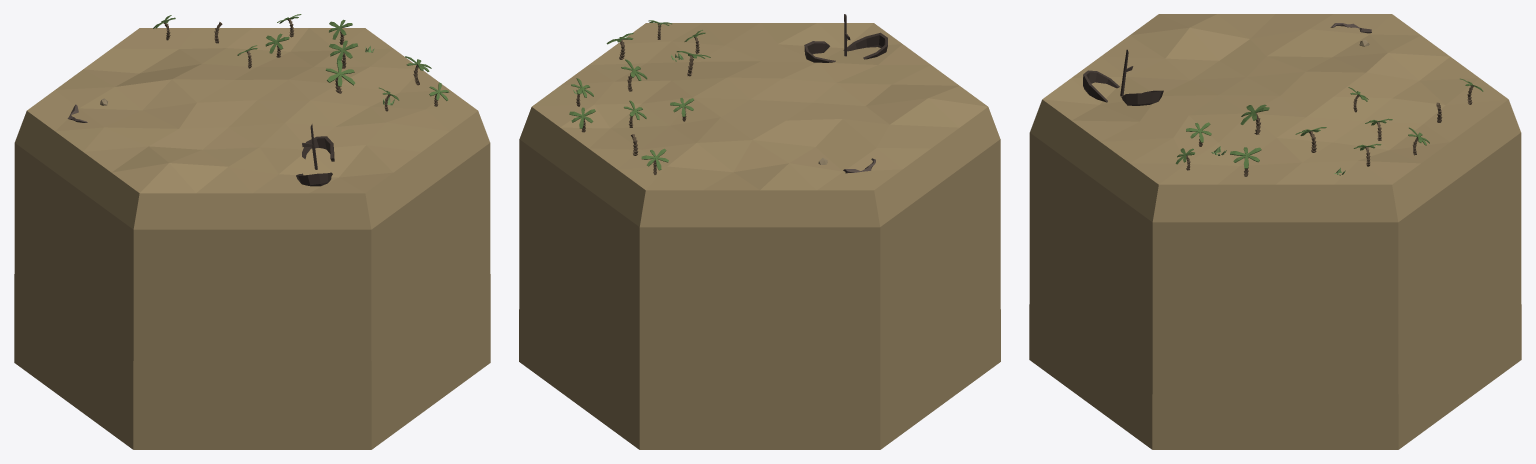
The model's file is boom_beach.fbx.
The picture shows the model from 3 angles, left to right: view 1: azimuth 30°, elevation 25°; view 2: azimuth 150°, elevation 25°; view 3: azimuth 270°, elevation 25°; orthographic projection. The views are drawn at different scales.
Parts seen in each view (by area): view 1: Cylinder.010; view 2: Cylinder.010, Cube.061; view 3: Cylinder.010, Cube.061, Cube.062.
Boxes of the visible parts, x1,y1,x2,y2 form: Cylinder.010: [14, 28, 490, 449]; Cylinder.010: [519, 23, 1000, 449]; Cube.061: [843, 32, 887, 59]; Cylinder.010: [1029, 14, 1521, 449]; Cube.061: [1083, 70, 1119, 102]; Cube.062: [1121, 90, 1163, 105].
Size of the model in its own units: 173 by 136 by 200.
